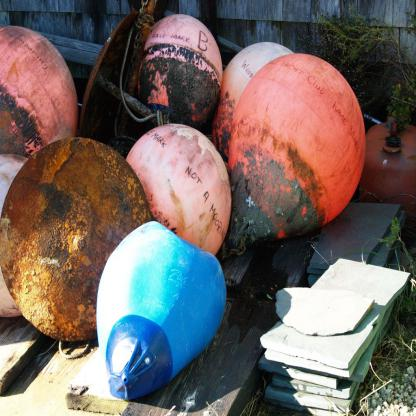Ball: (1, 134, 152, 340), (127, 124, 230, 260), (0, 27, 80, 160), (134, 14, 220, 136), (213, 42, 296, 160)
